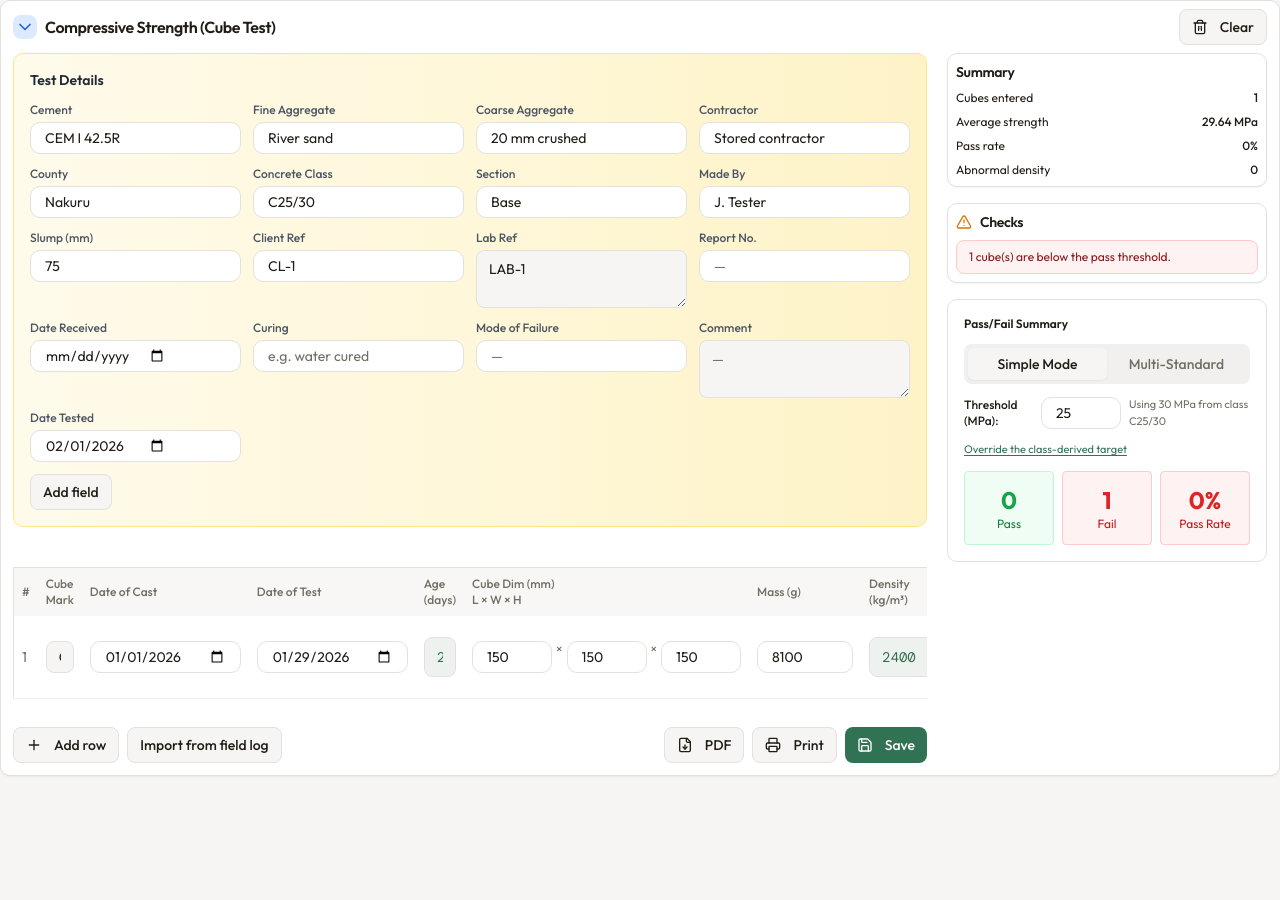
Test: age bands and class-derived targets › derives band targets from the concrete class until typed over
This screenshot has width=1280, height=900.
Expected: the text "Using 30 MPa from class C25/30" is shown, [1129,396,1250,429]
Replace the text in the number field next to "Using 30 MPa from class C25/30" with "20" at (1081, 412), box [1041,396,1121,428]
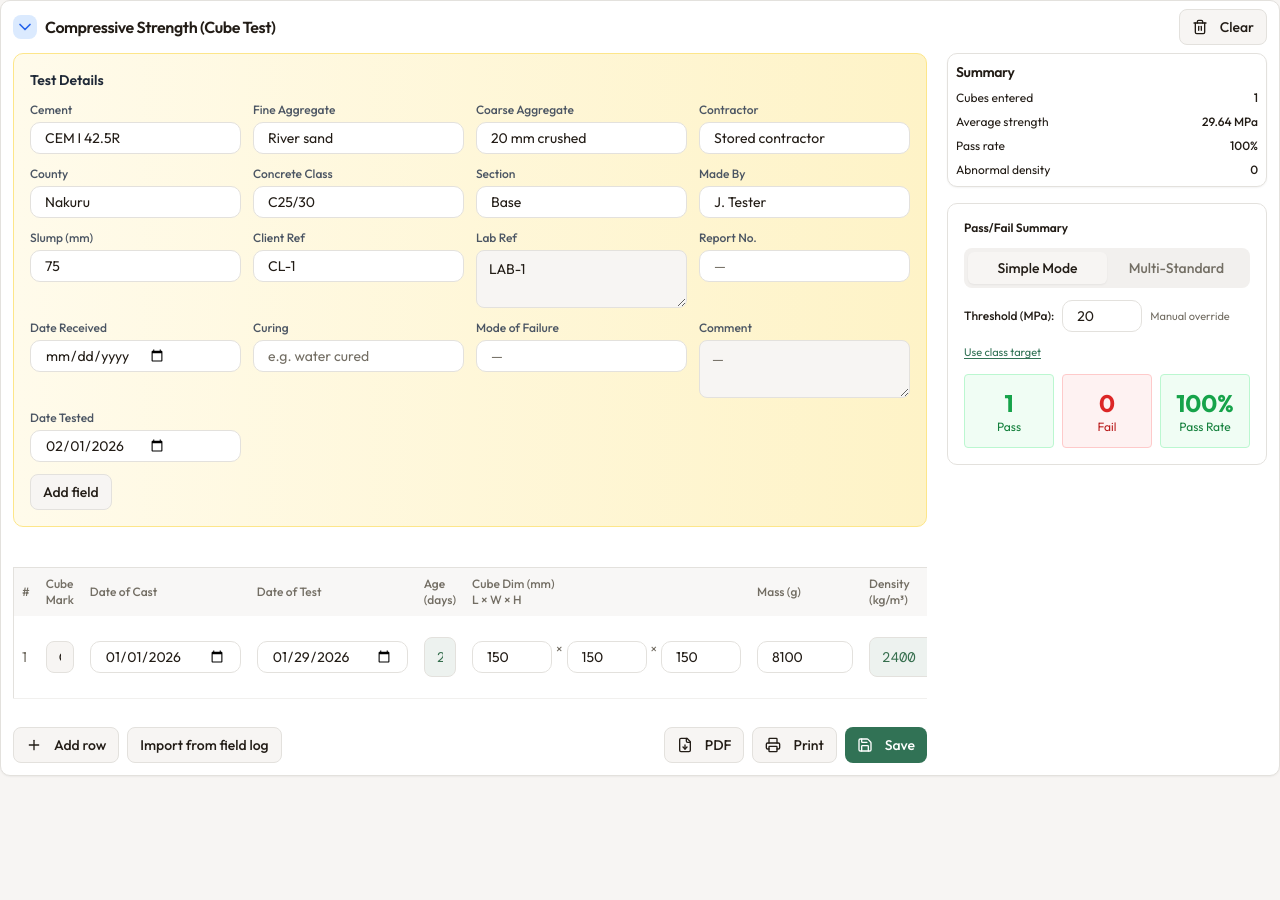
Now the text "Manual override" is shown, box [1150,308,1230,324]
Click the button "Use class target" at (1002, 352), box [964,344,1041,360]
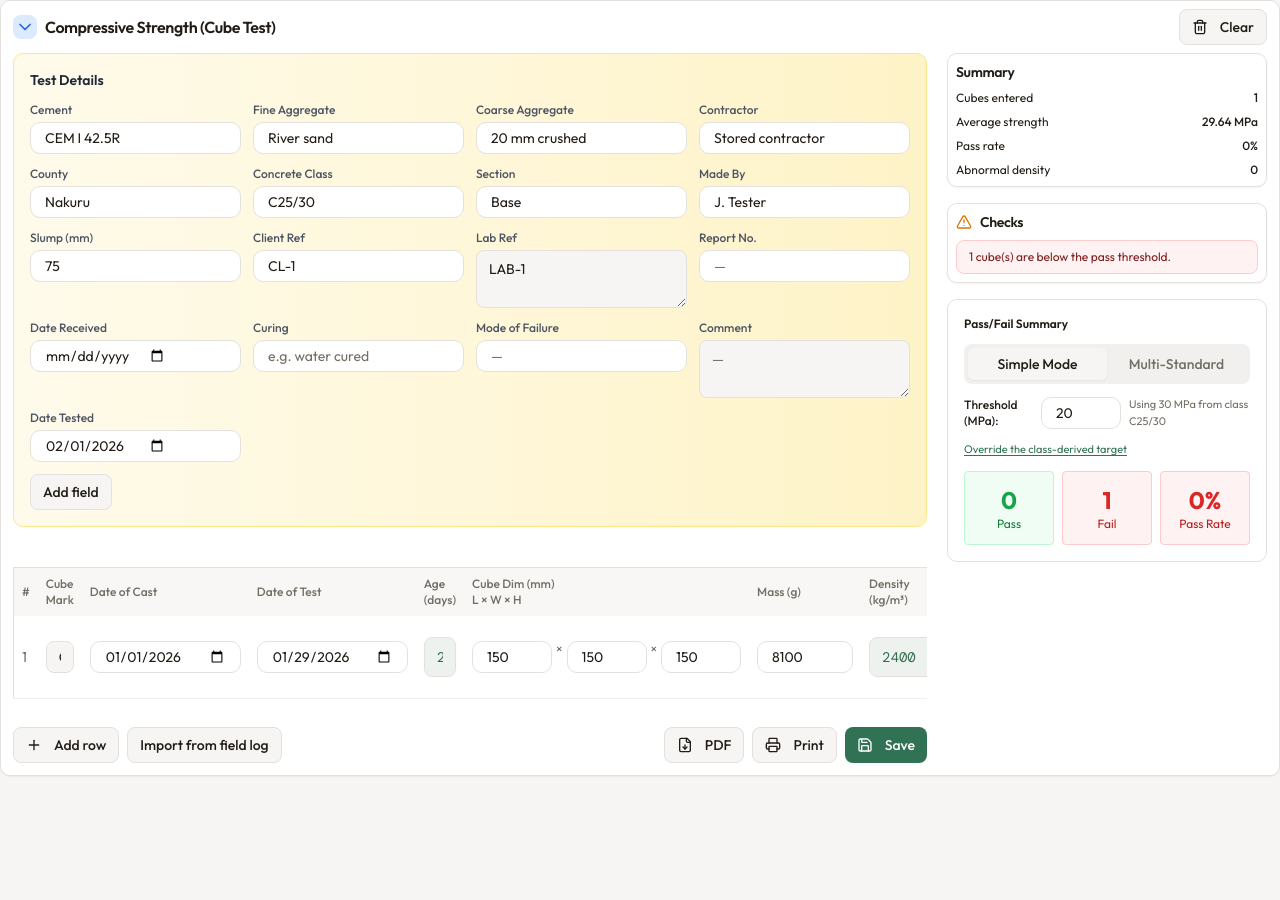
Now the text "Using 30 MPa from class C25/30" is shown, box [1129,396,1250,429]
